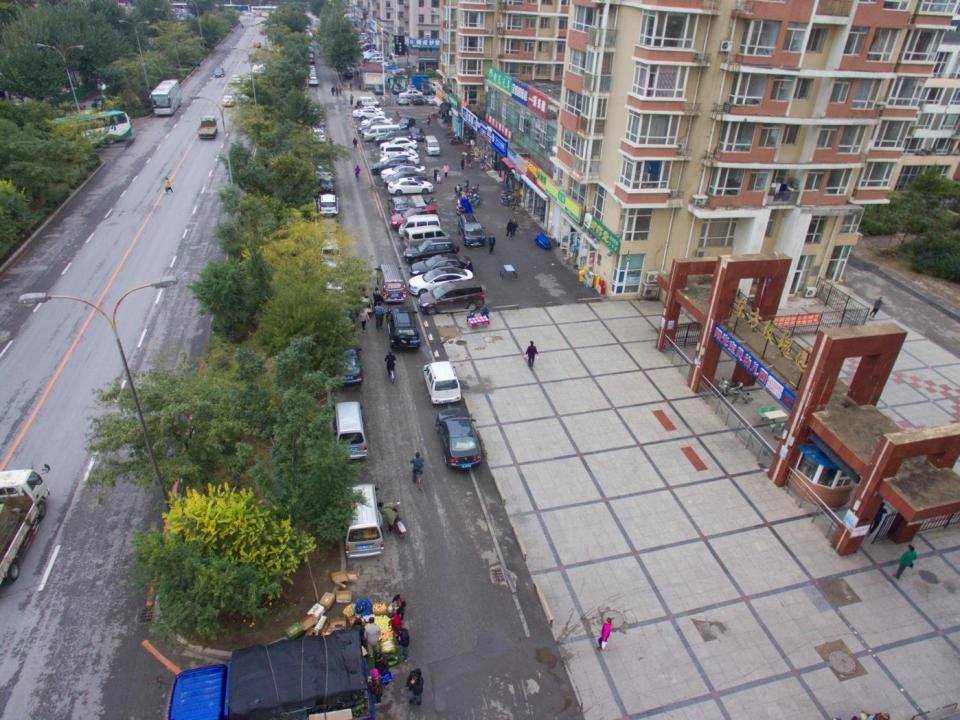bus: (47, 110, 134, 148), (250, 56, 266, 84), (164, 3, 197, 15), (252, 5, 282, 16), (218, 5, 249, 14)
car: (436, 409, 482, 472), (417, 282, 485, 314), (407, 267, 475, 295), (385, 304, 420, 353), (330, 343, 365, 389), (403, 238, 460, 260), (412, 254, 472, 274), (327, 294, 354, 335), (390, 206, 438, 229), (456, 214, 486, 248), (322, 260, 348, 298), (387, 178, 434, 197), (381, 162, 425, 180), (385, 171, 428, 187), (371, 158, 414, 172), (380, 153, 420, 166), (318, 195, 339, 219), (375, 130, 411, 144), (380, 145, 417, 158), (388, 197, 410, 215), (350, 106, 380, 119), (380, 139, 417, 149), (355, 108, 385, 120), (318, 162, 334, 184), (317, 178, 336, 196), (362, 116, 392, 127), (358, 122, 392, 130), (408, 127, 426, 142), (311, 126, 326, 143), (310, 103, 323, 120), (91, 98, 106, 112), (399, 90, 423, 98), (398, 118, 414, 129), (338, 64, 355, 74), (392, 84, 405, 97), (247, 52, 260, 65), (343, 69, 359, 79), (421, 83, 432, 95), (213, 67, 224, 78), (411, 96, 424, 105), (426, 95, 436, 106), (308, 76, 318, 87), (396, 95, 408, 104), (221, 97, 234, 105), (232, 75, 243, 84), (373, 85, 384, 94), (306, 53, 314, 63), (253, 41, 261, 50), (254, 12, 271, 16), (308, 65, 316, 73), (310, 68, 316, 78)
truck: (164, 631, 381, 719), (0, 469, 52, 588)
van: (343, 483, 383, 562), (333, 402, 369, 463), (424, 359, 462, 404), (148, 79, 182, 116), (376, 262, 406, 303), (399, 214, 440, 238), (405, 227, 449, 249), (321, 234, 344, 268), (197, 115, 218, 140), (364, 126, 402, 139), (408, 195, 428, 214), (423, 136, 440, 156), (359, 98, 379, 107)
